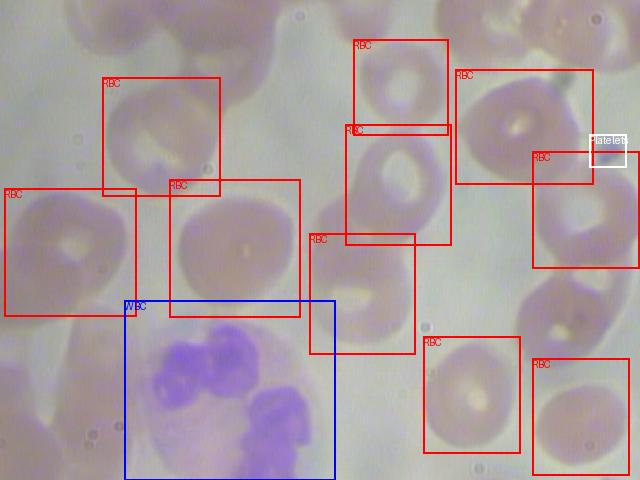Platelets: (589, 134, 626, 167)
RBC: (169, 179, 300, 317), (4, 188, 136, 316), (455, 69, 593, 184), (102, 77, 220, 196), (345, 124, 451, 245), (309, 233, 415, 354), (532, 151, 639, 268), (423, 336, 520, 453), (532, 358, 629, 475), (353, 39, 448, 135)
WBC: (124, 300, 335, 480)
